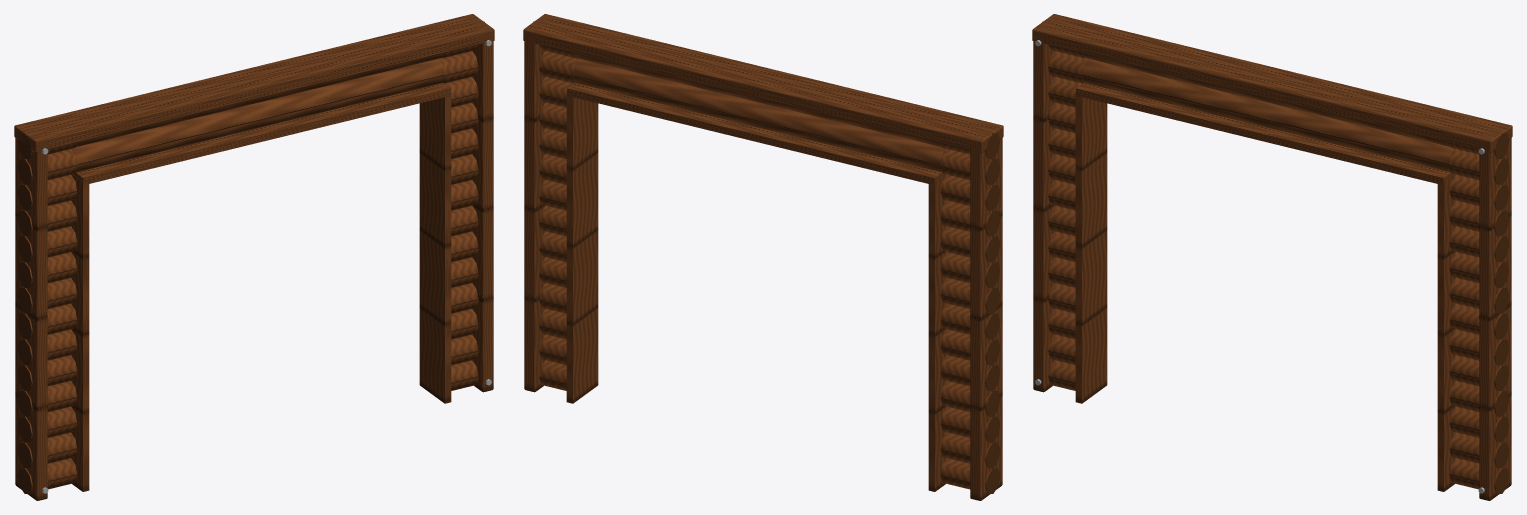
File: prehistoric-survivor-settlement-longhouse-entry-frame-d09f2edf__23185.glb
3 renders of one model, left to right at view 1: azimuth 30°, elevation 25°; view 2: azimuth 150°, elevation 25°; view 3: azimuth 330°, elevation 25°, orthographic.
Visible parts, largest first — view 1: longhouse-entry-frame; view 2: longhouse-entry-frame; view 3: longhouse-entry-frame.
Part boxes in pixels (bbox=[...]): longhouse-entry-frame: bbox=[14, 14, 494, 500]; longhouse-entry-frame: bbox=[523, 14, 1003, 500]; longhouse-entry-frame: bbox=[1032, 14, 1512, 500].
Bounding box in the file's own units: 4 × 3 × 0.388.
Materials: 2 (1 with a texture image).
